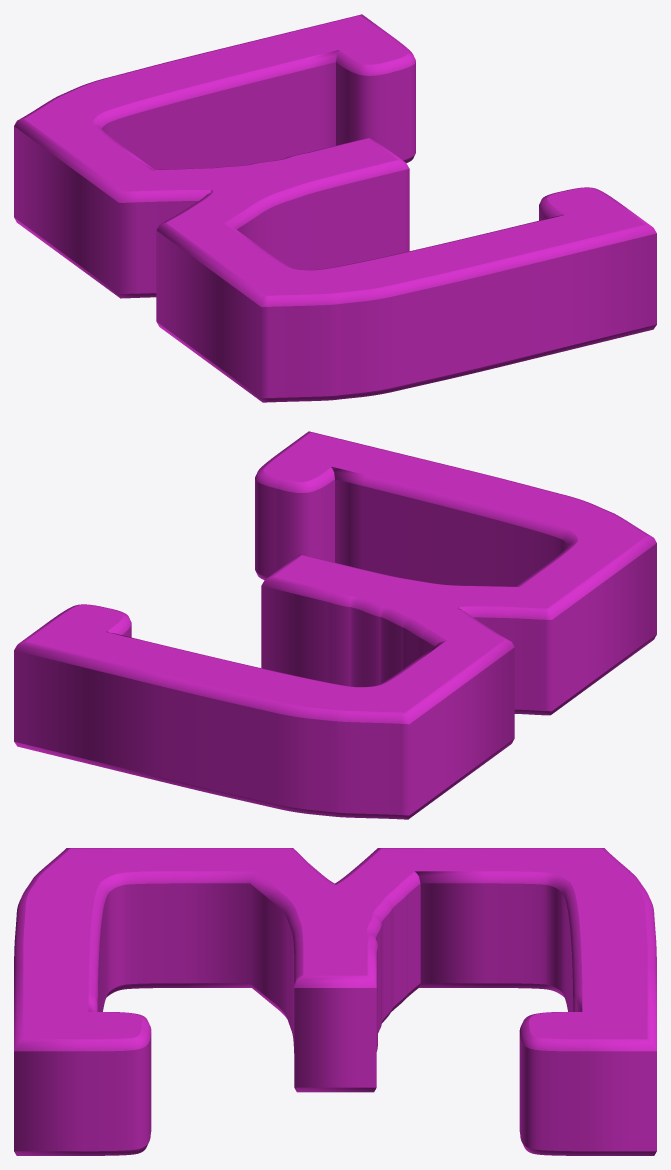
File: Number_3_CoolFont.fbx
3 renders of one model, top to bottom at view 1: azimuth 30°, elevation 25°; view 2: azimuth 150°, elevation 25°; view 3: azimuth 270°, elevation 25°, orthographic. The views are drawn at different scales.
Parts seen in each view (by area): view 1: Number_3; view 2: Number_3; view 3: Number_3.
Part boxes in pixels (bbox=[...]): Number_3: bbox=[14, 14, 656, 402]; Number_3: bbox=[14, 431, 656, 819]; Number_3: bbox=[14, 848, 656, 1155].
Bounding box in the file's own units: 0.5128 × 0.14 × 0.7012.
